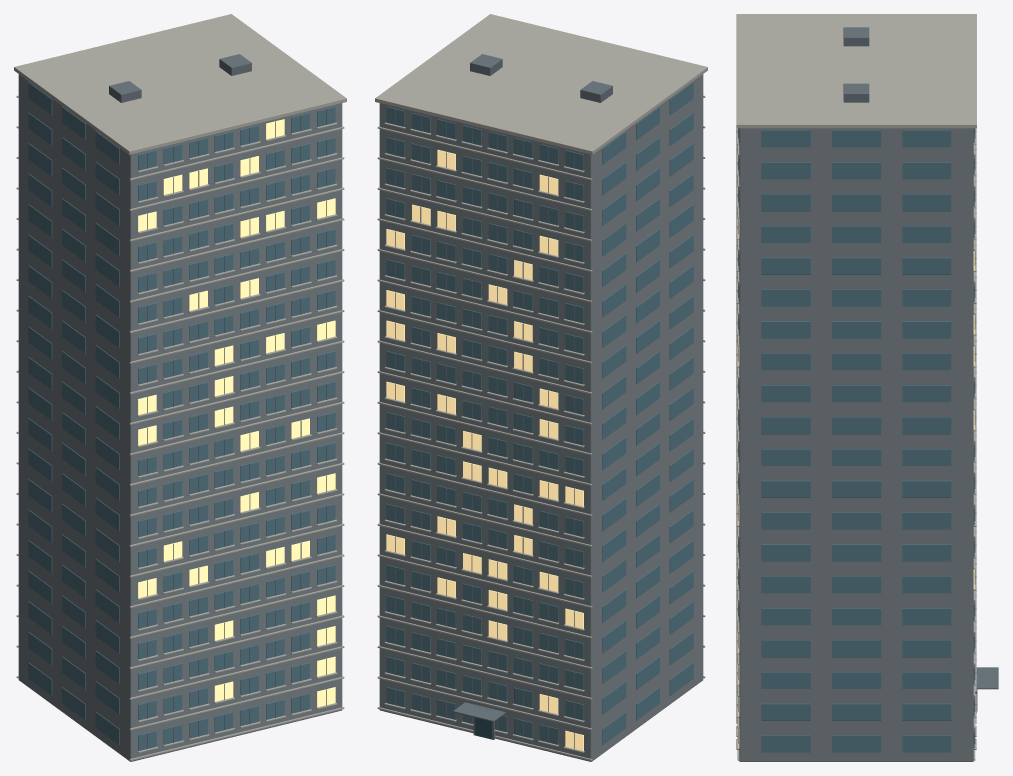
File: OfficeTower.fbx
The picture shows the model from 3 angles, left to right: view 1: azimuth 30°, elevation 25°; view 2: azimuth 150°, elevation 25°; view 3: azimuth 270°, elevation 25°; orthographic projection. The views are drawn at different scales.
Parts seen in each view (by area): view 1: Body.032; view 2: Body.032; view 3: Body.032.
Part boxes in pixels (x1,y1,x2,y2): Body.032: [14, 14, 346, 761]; Body.032: [375, 14, 707, 761]; Body.032: [736, 14, 998, 761].
Size of the model in its own units: 24.6 by 67.1 by 24.65.
